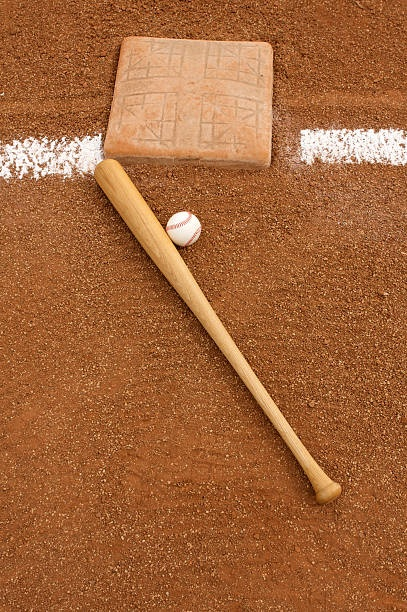bita: (95, 158, 345, 499)
